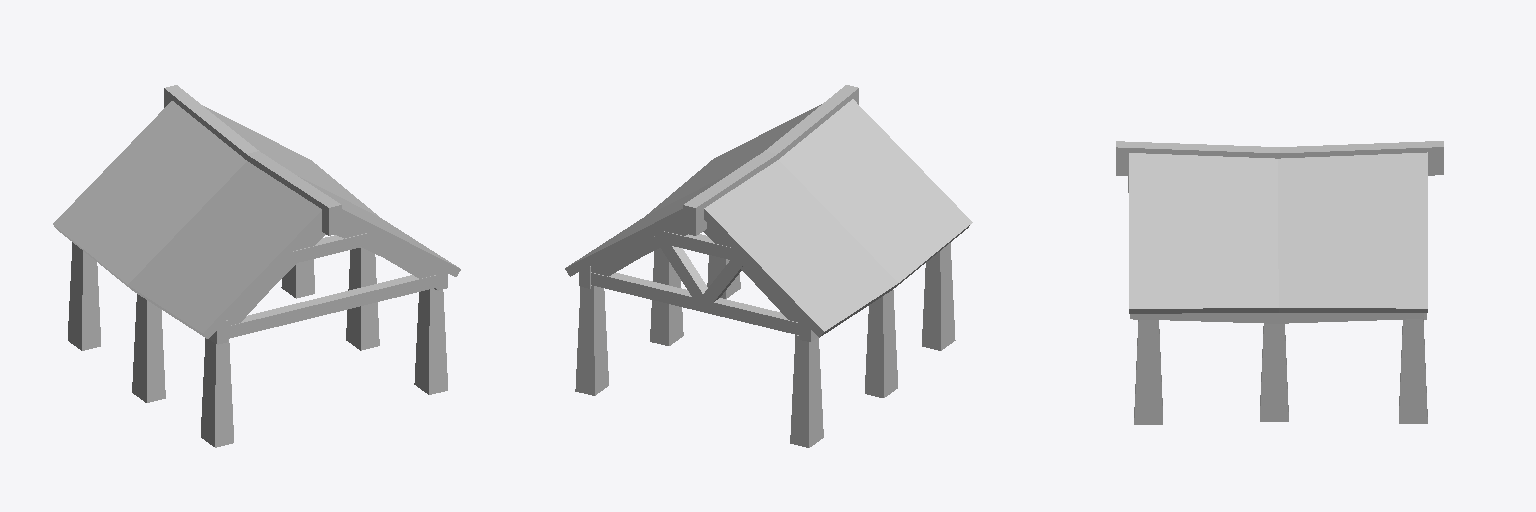
Rendered from smithy.obj.
3 views of the same model, side by side, from view 1: azimuth 30°, elevation 25°; view 2: azimuth 150°, elevation 25°; view 3: azimuth 270°, elevation 25° (orthographic).
Visible parts, largest first — view 1: EngineersShack_polySurface282_EngineersShack_polySurface282.001, EngineersShack_polySurface299; view 2: EngineersShack_polySurface282_EngineersShack_polySurface282.001, EngineersShack_polySurface299; view 3: EngineersShack_polySurface282_EngineersShack_polySurface282.001, EngineersShack_polySurface299.
Boxes of the visible parts, <box> form: EngineersShack_polySurface282_EngineersShack_polySurface282.001: <box>53,101,460,338</box>; EngineersShack_polySurface299: <box>68,85,447,447</box>; EngineersShack_polySurface282_EngineersShack_polySurface282.001: <box>565,99,972,337</box>; EngineersShack_polySurface299: <box>575,85,955,447</box>; EngineersShack_polySurface282_EngineersShack_polySurface282.001: <box>1128,152,1427,313</box>; EngineersShack_polySurface299: <box>1116,141,1443,424</box>.
Bounding box in the file's own units: 5.62 × 4.56 × 6.15.